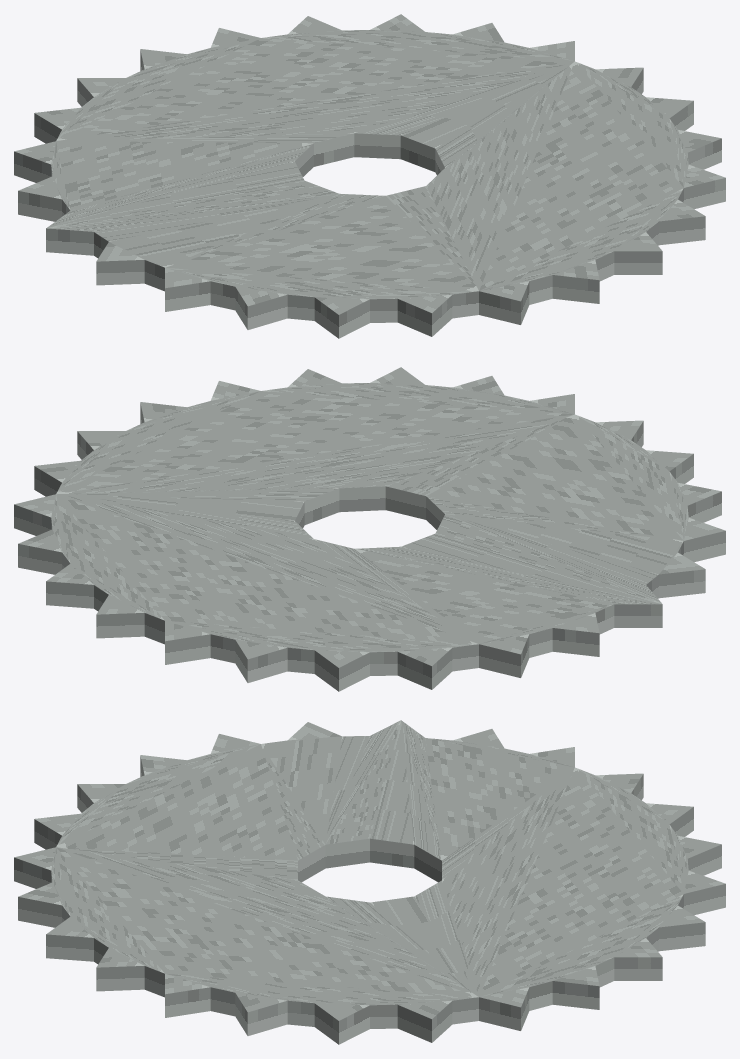
Rendered from circsaw_blade.glb.
3 views of the same model, one above another, from view 1: azimuth 30°, elevation 25°; view 2: azimuth 150°, elevation 25°; view 3: azimuth 270°, elevation 25° (orthographic).
Visible parts, largest first — view 1: block_toothed saw disc; view 2: block_toothed saw disc; view 3: block_toothed saw disc.
Boxes of the visible parts, bbox=[...] form: block_toothed saw disc: bbox=[14, 14, 725, 338]; block_toothed saw disc: bbox=[14, 367, 725, 691]; block_toothed saw disc: bbox=[14, 720, 725, 1044].
Bounding box in the file's own units: 0.204 × 0.00753 × 0.204.
1 material, 1 textured.
